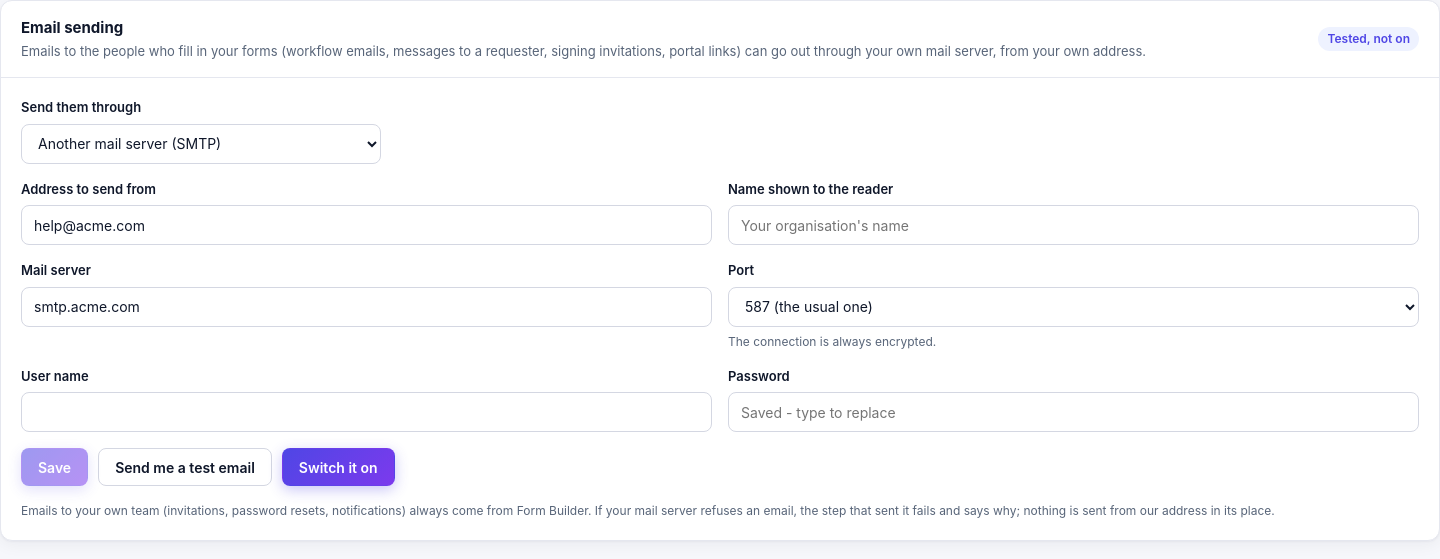
Test: the email sending card › with unsaved changes, testing waits for a save
The image size is (1440, 559).
Expected: the button "Send me a test email" is enabled, [98,448,272,486]
Replace the text in the field labelled "Mail server" with "smtp.other.com" at (366, 306), box [21,286,712,326]
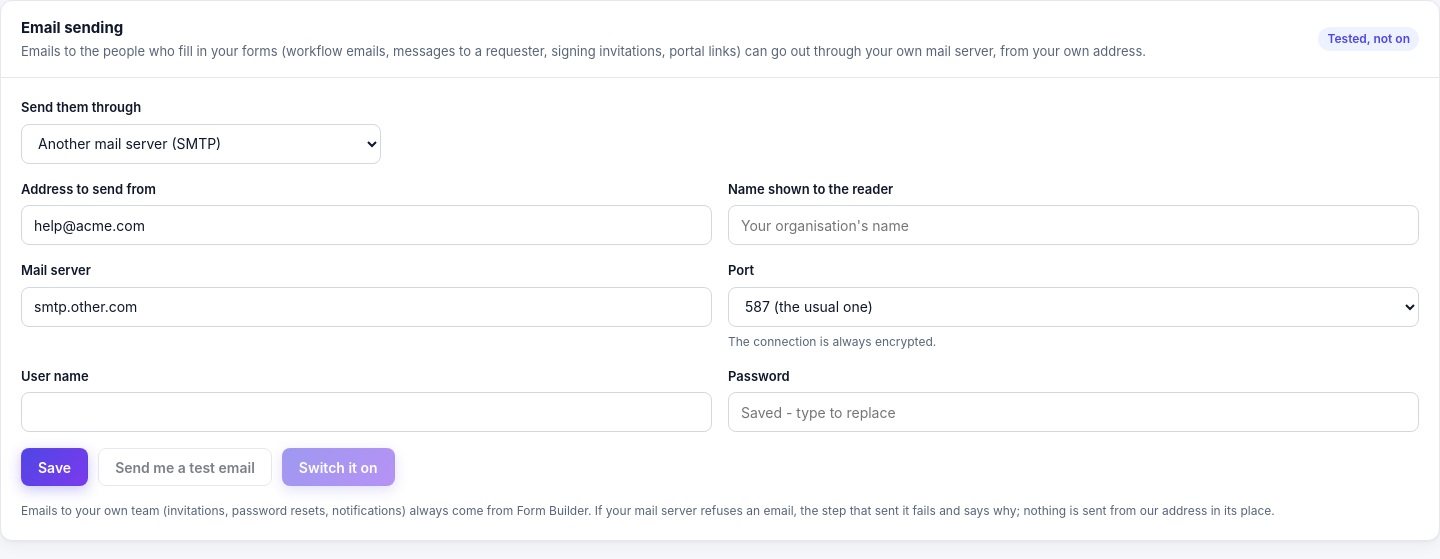
Result: the button "Send me a test email" is disabled at [98,448,272,486]
Result: the button "Switch it on" is disabled at [282,448,395,486]
Result: the button "Save" is enabled at [21,448,88,486]
